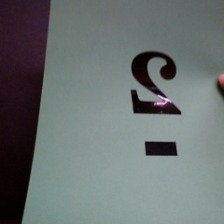green2: (124, 41, 190, 160)
